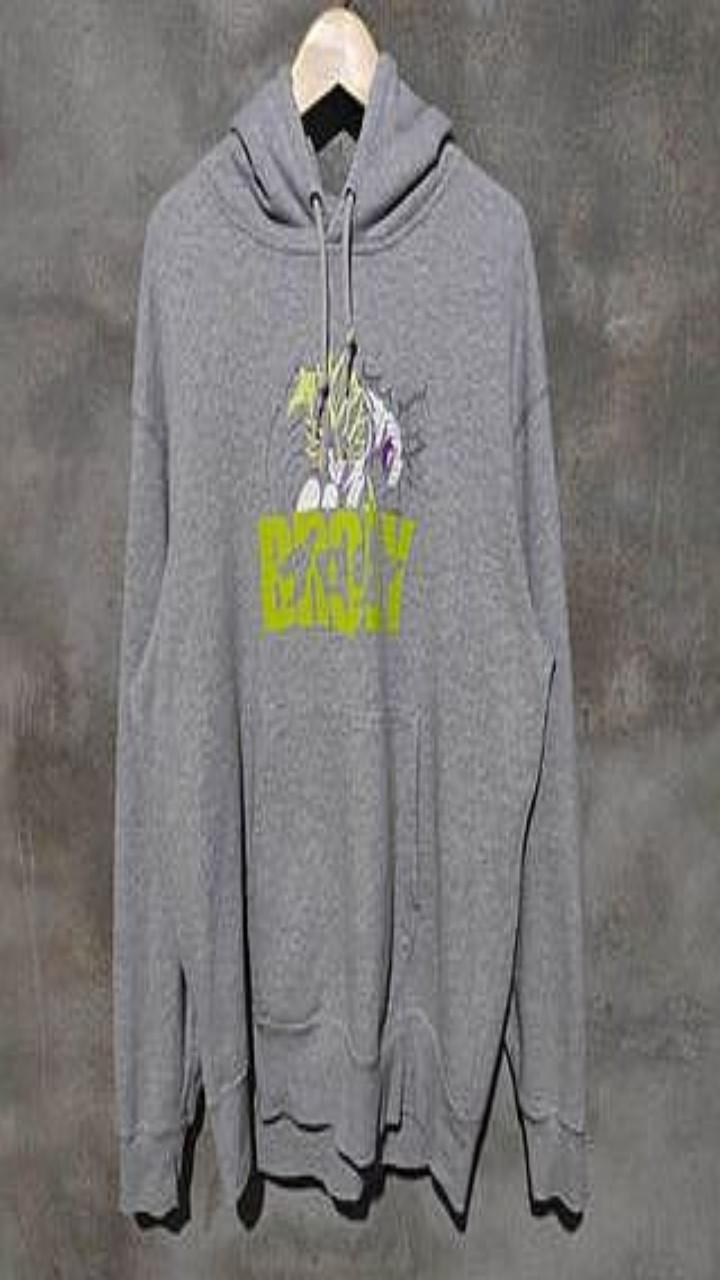Hoodie: (113, 52, 586, 1213)
